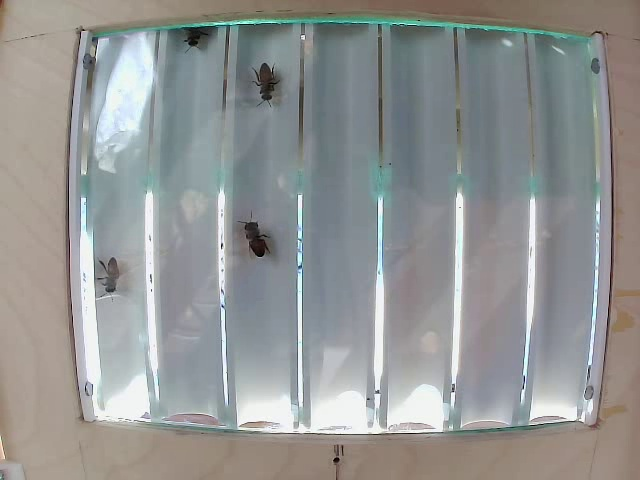bee: (245, 56, 281, 114), (93, 258, 127, 303), (237, 212, 266, 262), (179, 35, 207, 56)
